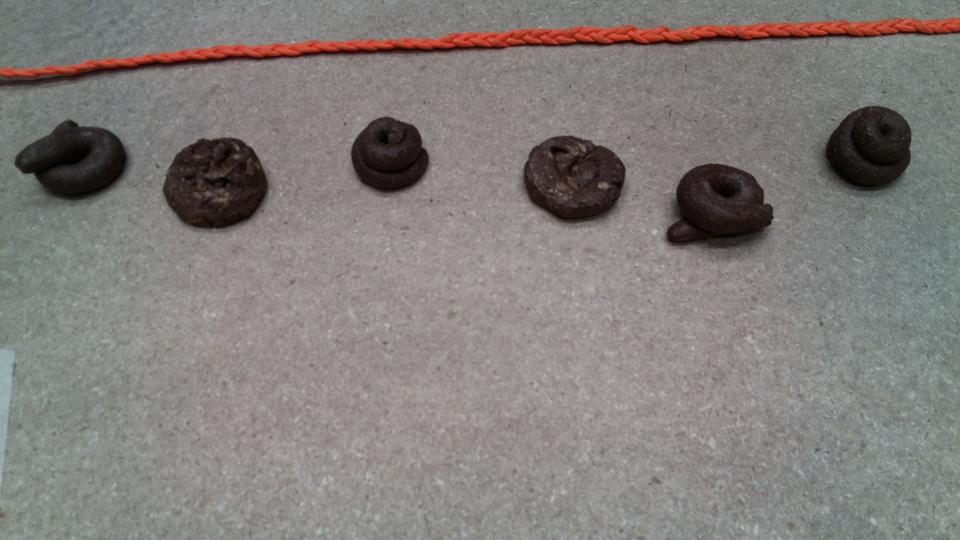poop: (519, 126, 639, 228), (663, 159, 785, 255), (11, 115, 136, 208), (160, 132, 272, 223), (824, 101, 922, 197), (351, 117, 439, 198)
rope: (360, 13, 960, 62), (2, 42, 433, 86)
